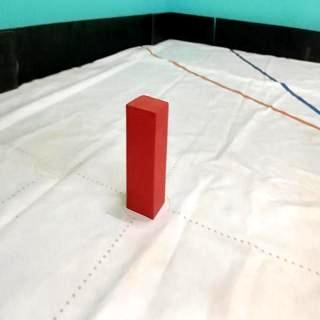redbox: (124, 94, 169, 220)
